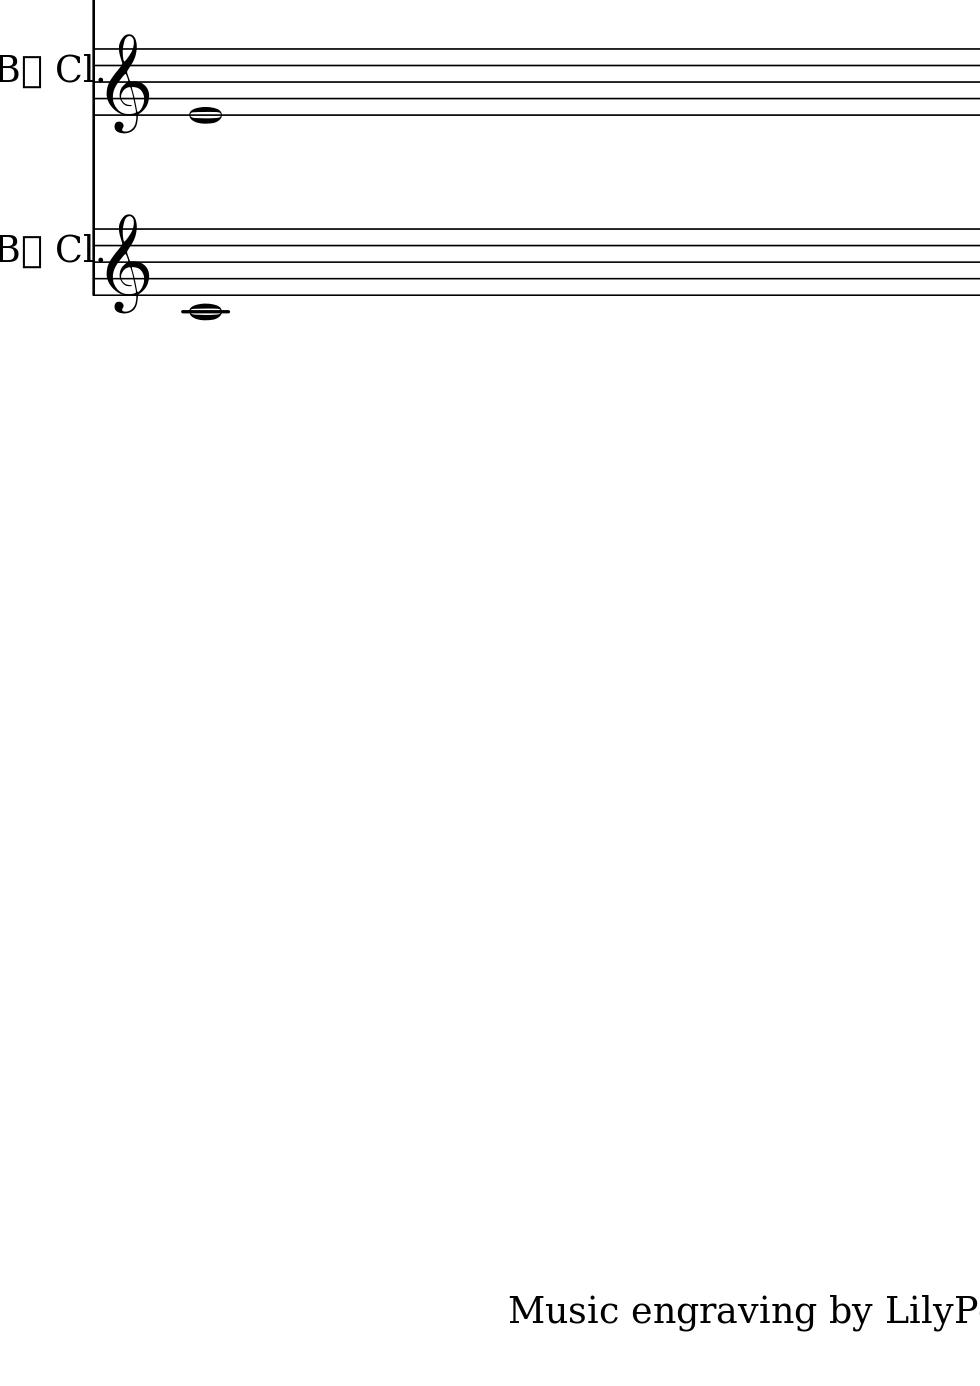1_-2: (186, 226, 225, 324)
1_0: (188, 45, 224, 127)
Cl: (55, 50, 90, 86), (55, 231, 91, 263)
Gclef: (104, 31, 148, 136), (106, 211, 148, 315)
Single_barline: (89, 48, 106, 117), (89, 228, 105, 297)
